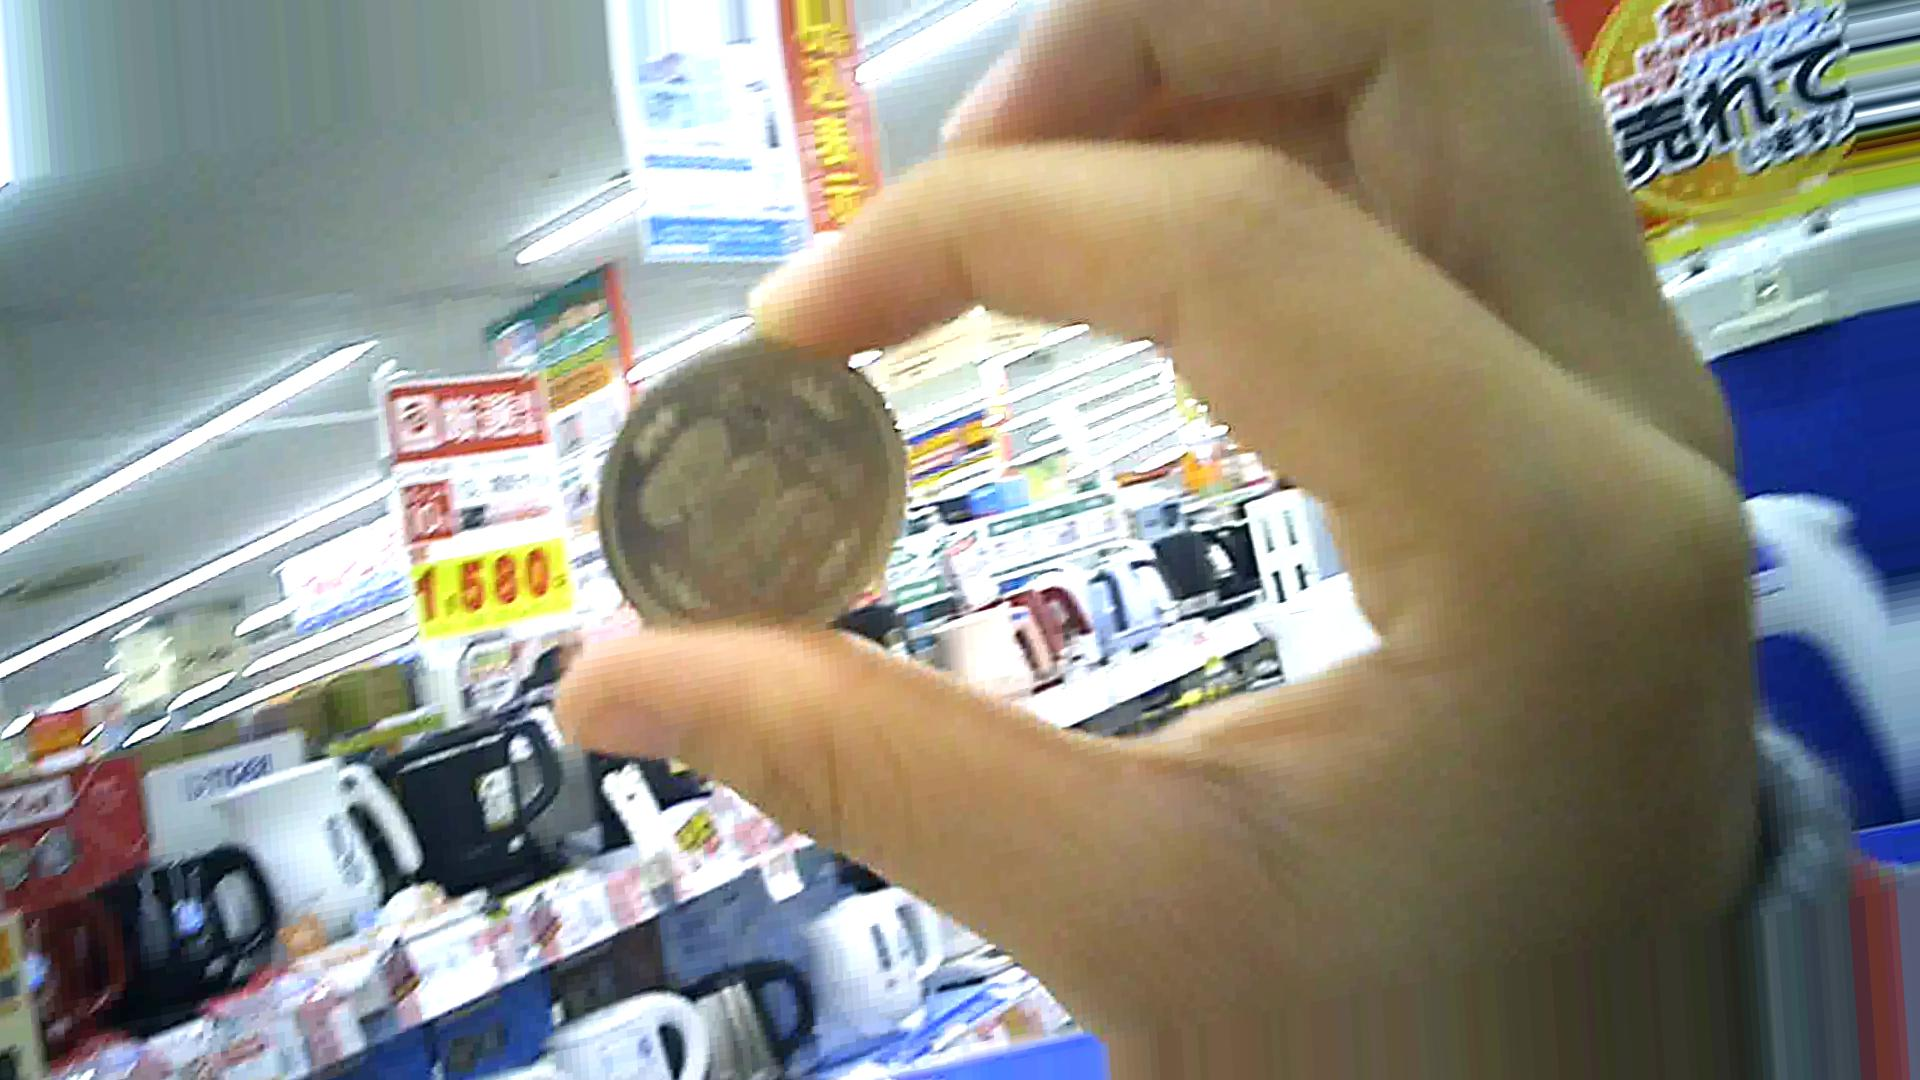500 Yen: (575, 328, 899, 644)
